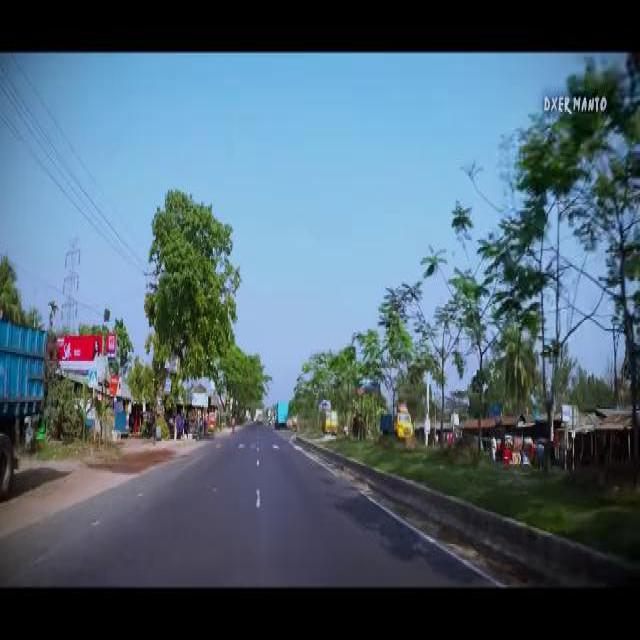vehicle: (378, 401, 415, 444), (322, 406, 339, 435), (274, 399, 289, 431), (503, 435, 513, 467), (514, 436, 523, 470)
